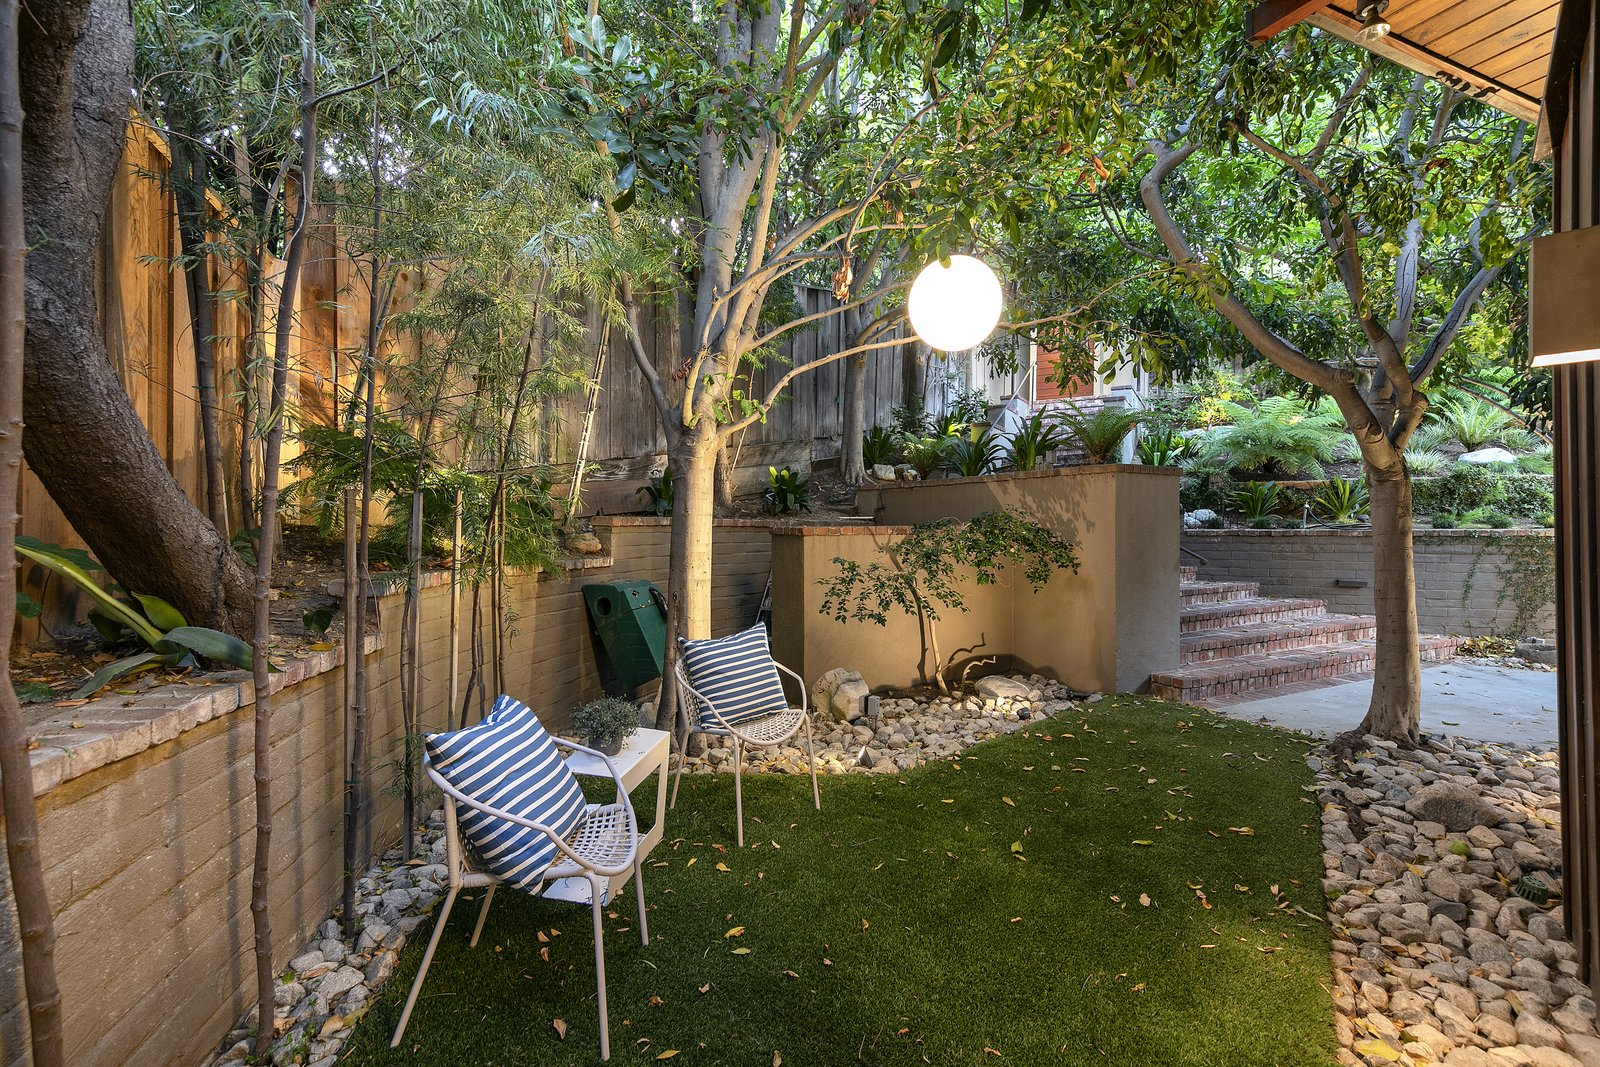tree: (477, 1, 1108, 747), (913, 20, 1540, 745)
